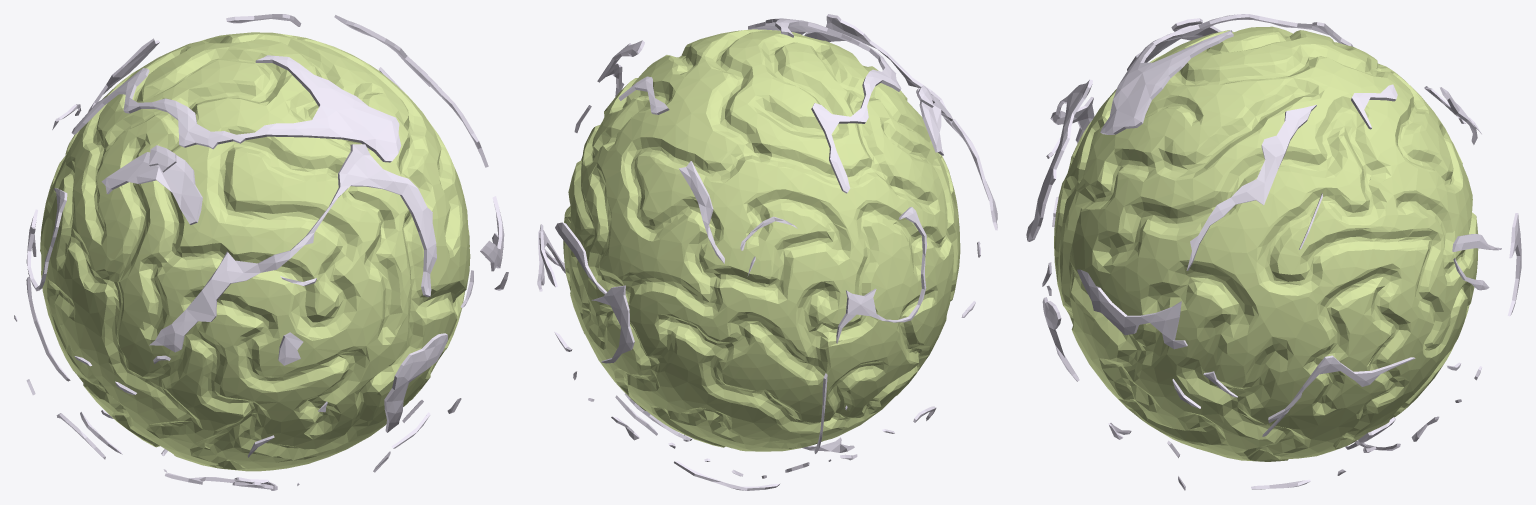
File: Planet_34.glb
3 views of the same model, side by side, from view 1: azimuth 30°, elevation 25°; view 2: azimuth 150°, elevation 25°; view 3: azimuth 270°, elevation 25° (orthographic). The views are drawn at different scales.
Visible parts, largest first — view 1: Planet_34; view 2: Planet_34; view 3: Planet_34.
Boxes of the visible parts, x1,y1,x2,y2 form: Planet_34: (14, 14, 508, 490); Planet_34: (537, 14, 997, 490); Planet_34: (1026, 14, 1521, 490).
Size of the model in its own units: 21.94 by 21.68 by 22.76.
Materials: 1 (1 with a texture image).
